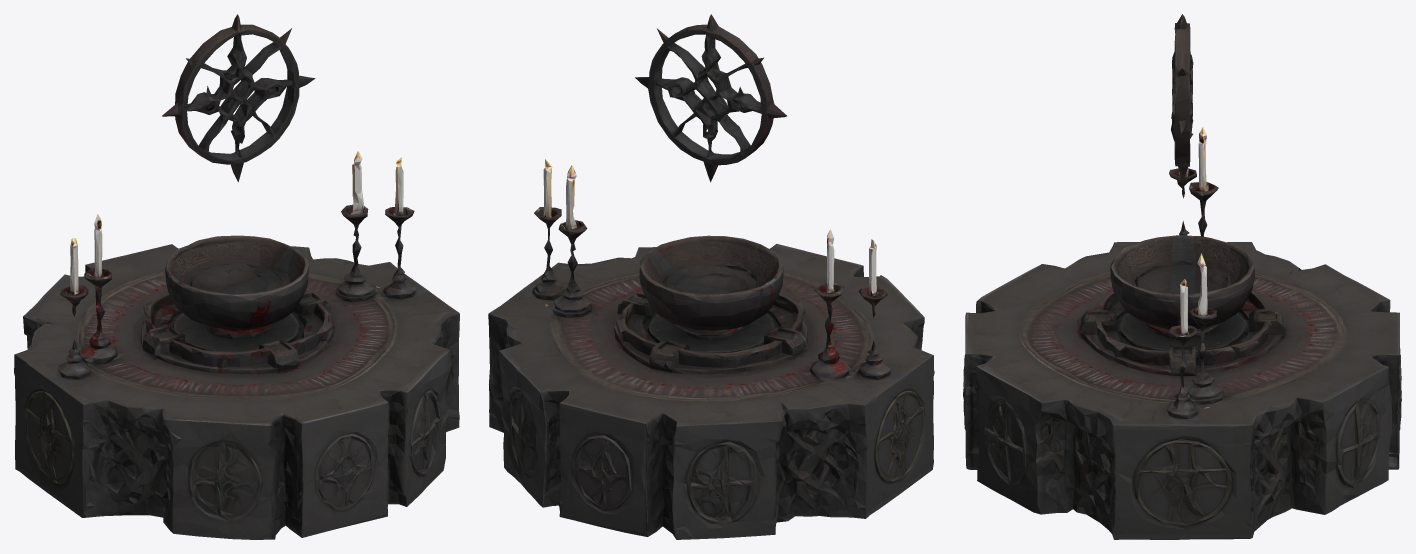
The model's file is blood_altar_for_sacri_0617194841_texture.fbx.
The picture shows the model from 3 angles, left to right: view 1: azimuth 30°, elevation 25°; view 2: azimuth 150°, elevation 25°; view 3: azimuth 270°, elevation 25°; orthographic projection.
Parts seen in each view (by area): view 1: temp; view 2: temp; view 3: temp.
Boxes of the visible parts, x1,y1,x2,y2 form: temp: (14, 14, 459, 539); temp: (488, 14, 934, 539); temp: (963, 14, 1401, 539).
Size of the model in its own units: 185 by 200 by 183.
1 material, 1 textured.
